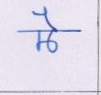au_matra: (37, 7, 59, 38)
